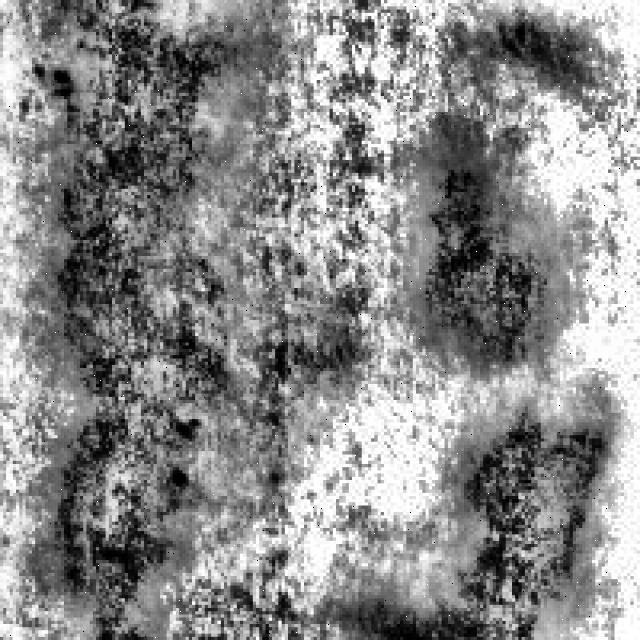Scratches: (45, 0, 244, 621), (374, 388, 614, 630), (426, 125, 576, 378), (487, 0, 615, 86)
